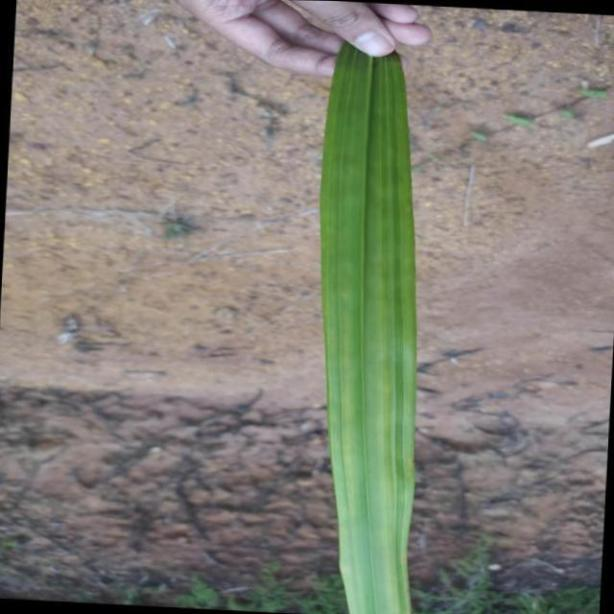nitrogen: (318, 33, 418, 614)
